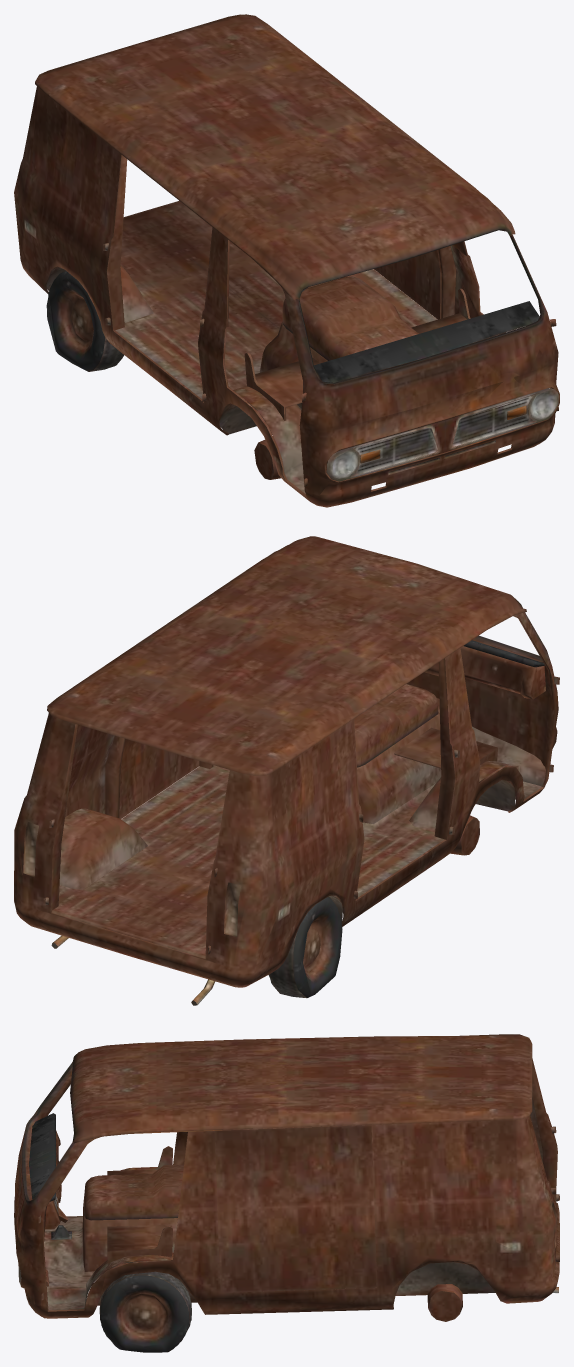
Rendered from van_e_snow.glb.
The picture shows the model from 3 angles, top to bottom: view 1: azimuth 30°, elevation 25°; view 2: azimuth 150°, elevation 25°; view 3: azimuth 270°, elevation 25°; orthographic projection. The views are drawn at different scales.
Visible parts, largest first — view 1: van_e_LOD0; view 2: van_e_LOD0; view 3: van_e_LOD0.
Part boxes in pixels (left/top/right/bottom): van_e_LOD0: left=14, top=14, right=559, bottom=507; van_e_LOD0: left=14, top=536, right=559, bottom=1005; van_e_LOD0: left=14, top=1034, right=559, bottom=1352.
Bounding box in the file's own units: 2.27 × 2.21 × 4.76.
2 materials, 2 textured.
